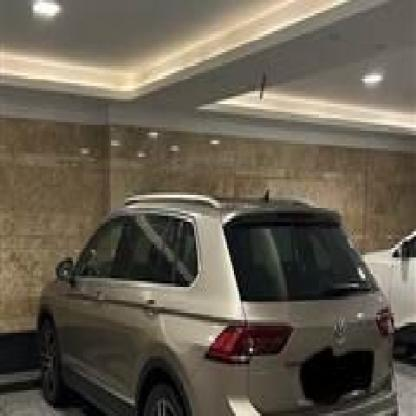Car: (24, 203, 399, 416)
